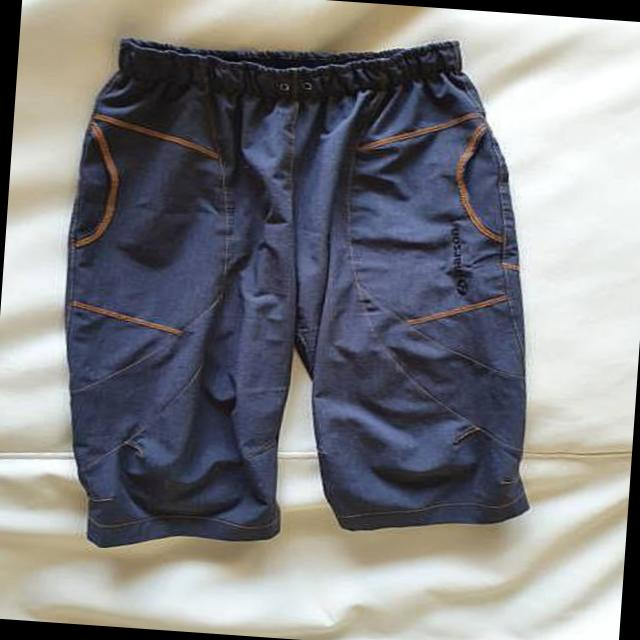SHORT: (28, 4, 586, 586)
